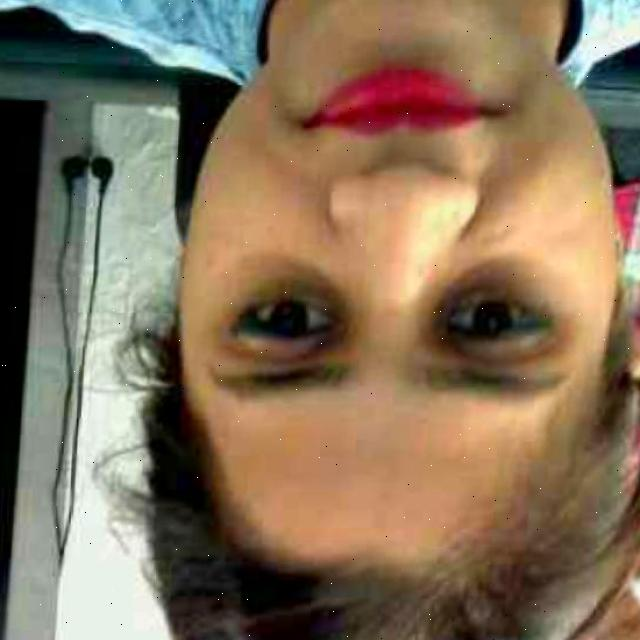puffy_eyes: (430, 263, 547, 320), (234, 261, 348, 317)
